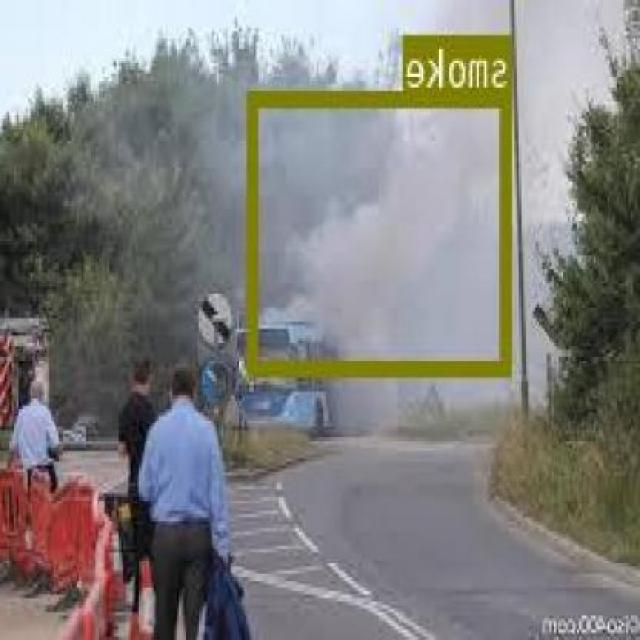smoke: (250, 91, 512, 374)
